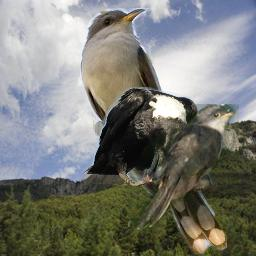Crow: (82, 85, 200, 189)
Cuckoo: (80, 8, 227, 254), (128, 104, 239, 234)
